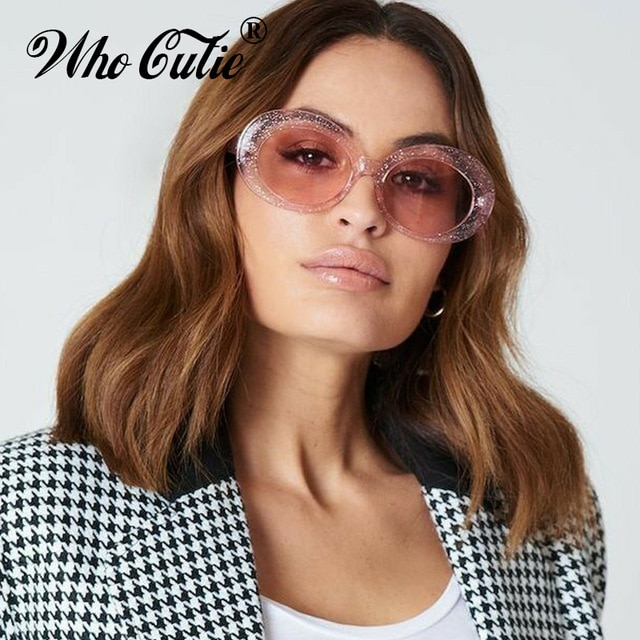sunglasses: (193, 108, 533, 262)
